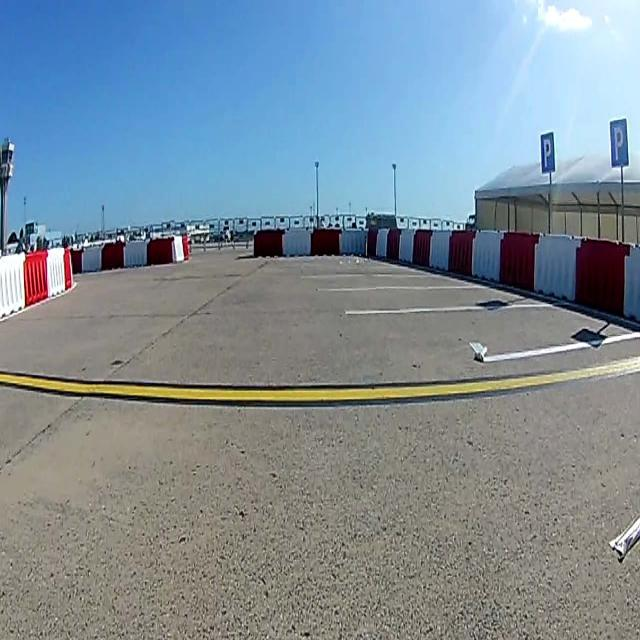park: (610, 120, 628, 168), (540, 131, 554, 172)
